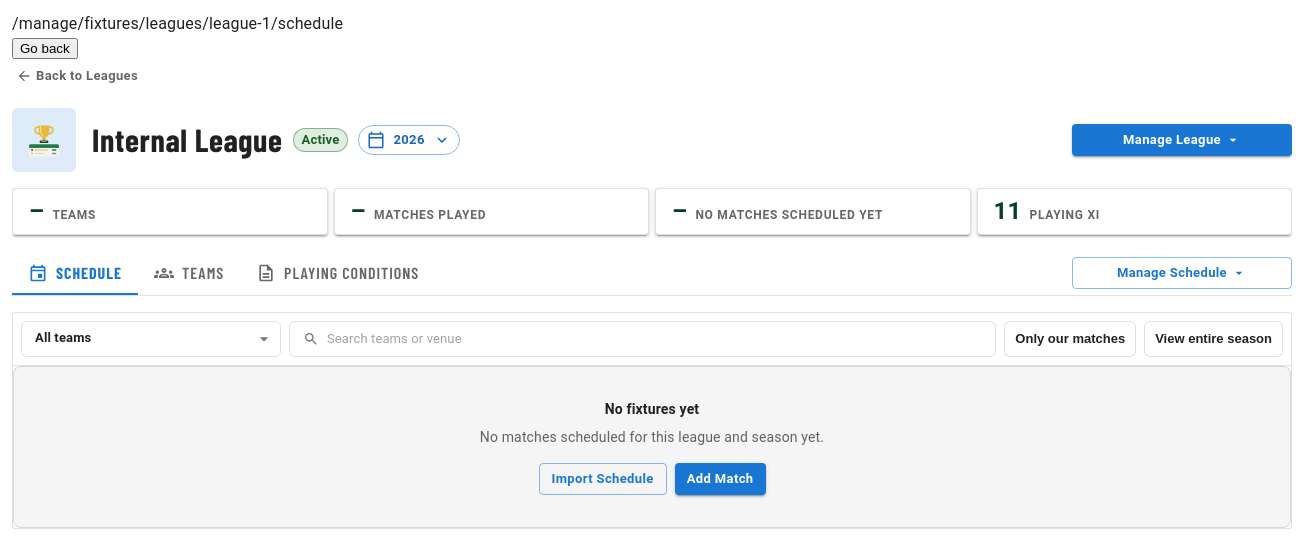
Test: league view Share entry points › offers "Share League" in the Manage League panel, with no "Share schedule" and no header Share button
Step 1. Click the button "Manage League" → (1182, 140), box [1072,124,1292,156]
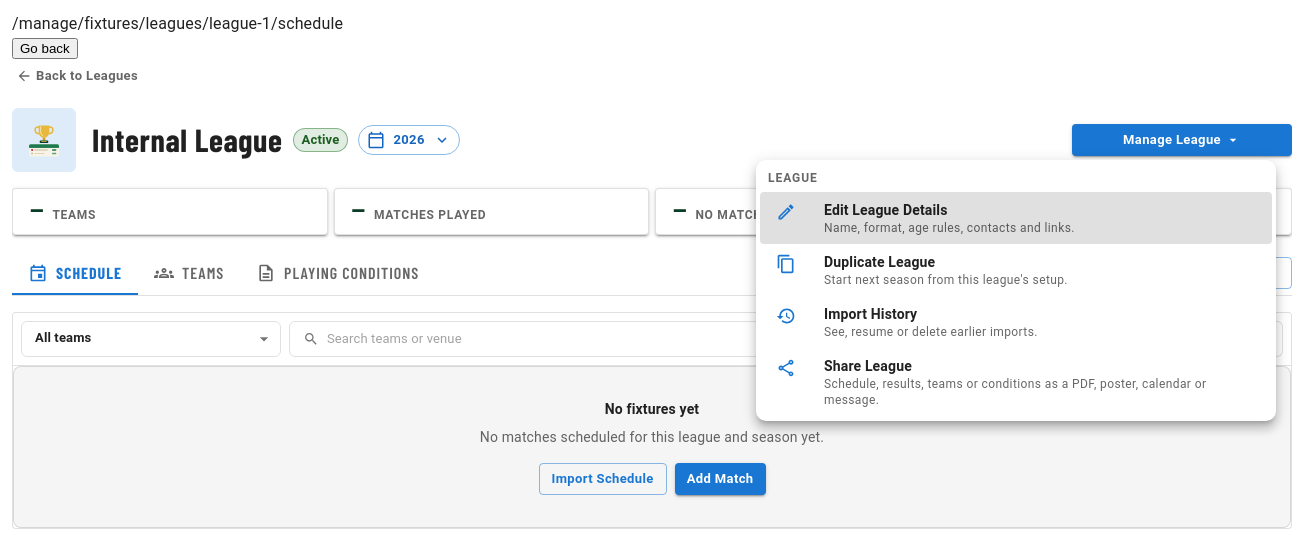
Expected: the menu item "Share League" is shown, [776,358,1206,407]
